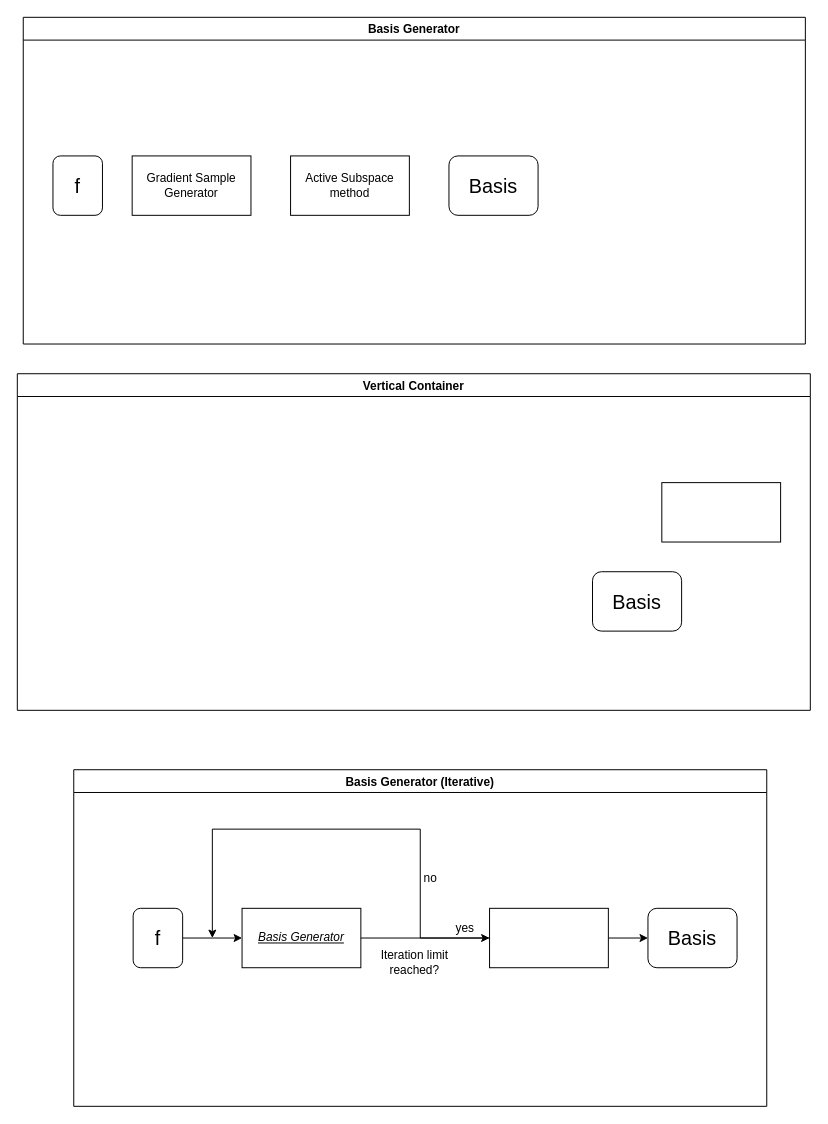
Image size: 828x1124. Some labels were removed from this diagram. Each missing label, with the centre of its shape:
"Choose best basis" goes at [548,937].
"Subspace Selector" goes at [721,512].
